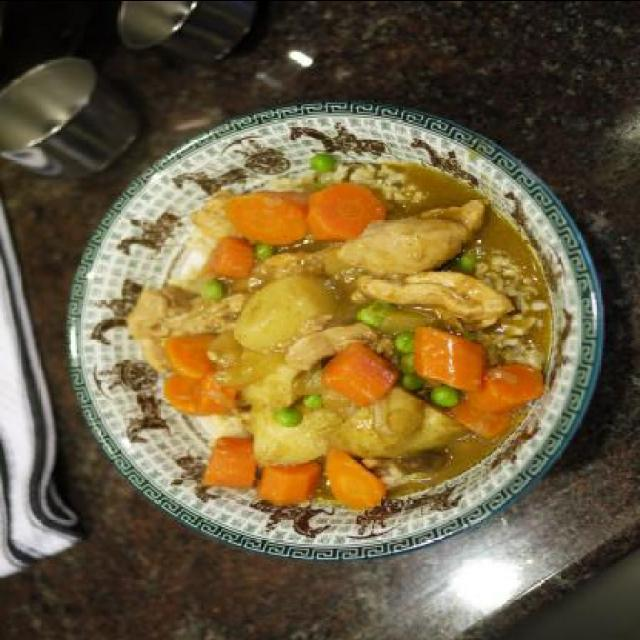Carrot: (408, 326, 488, 394), (302, 181, 386, 239), (228, 185, 306, 243), (327, 442, 385, 512), (462, 366, 540, 412), (202, 436, 260, 488), (254, 457, 316, 501), (448, 399, 508, 441), (168, 336, 215, 378), (211, 236, 257, 278), (156, 374, 196, 418), (196, 370, 232, 416)
